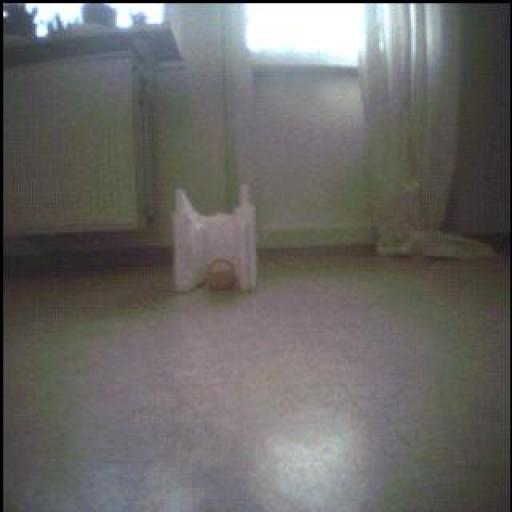Basket: (205, 255, 239, 293)
